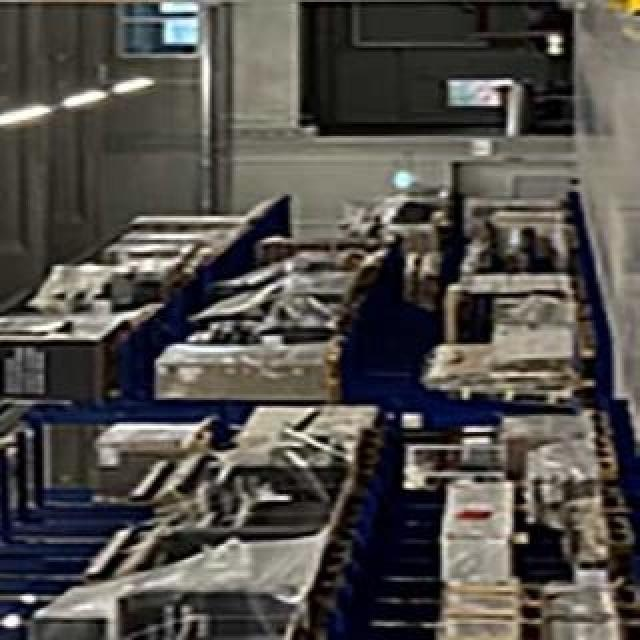fluorescent tube: (0, 100, 56, 134), (60, 82, 115, 114), (111, 69, 160, 98)
